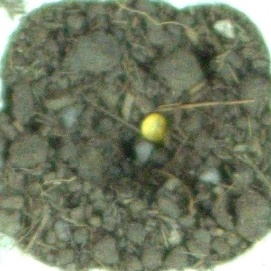pepper seed: (55, 39, 224, 184)
